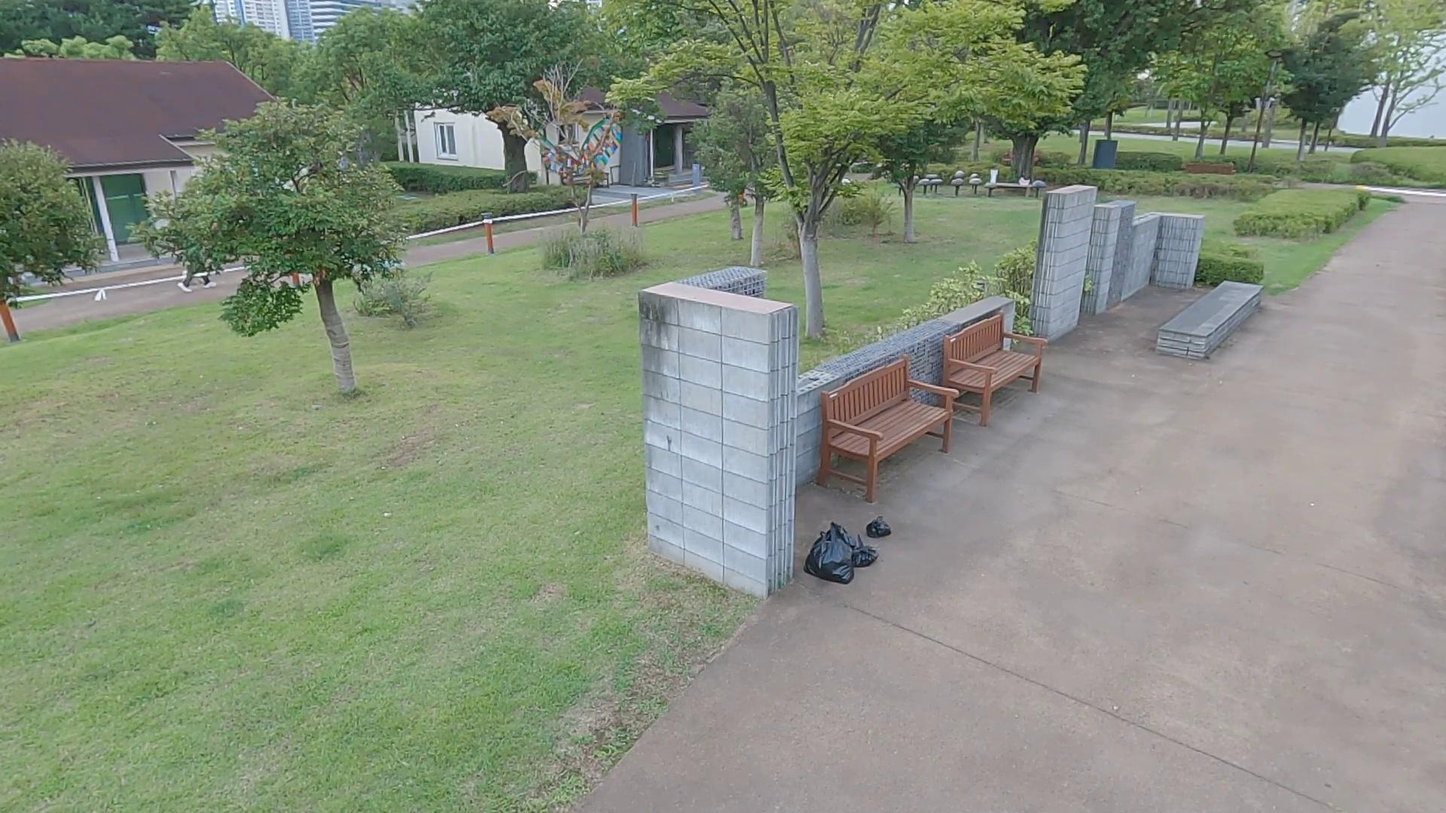trash: (809, 535, 856, 584), (826, 525, 857, 568), (852, 540, 881, 570), (868, 514, 890, 538)
